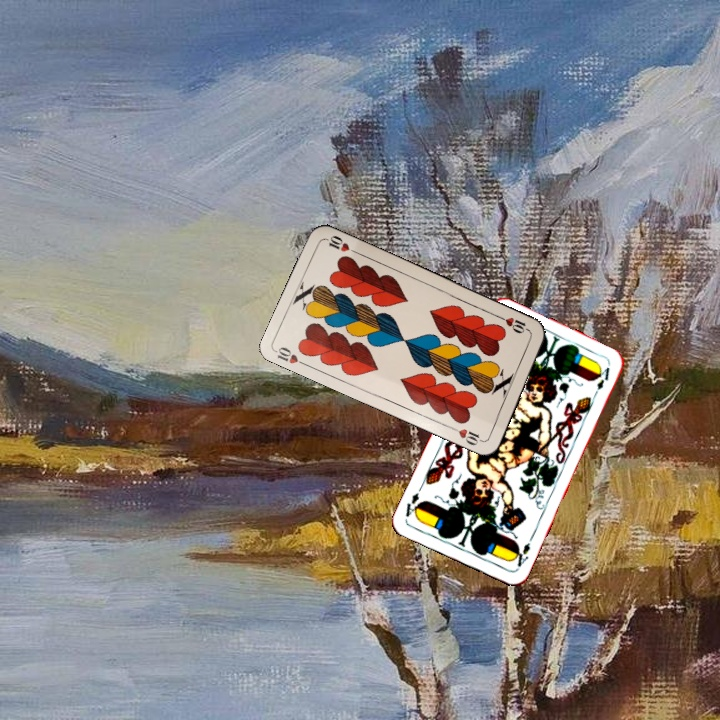EA: (508, 538, 533, 572)
H10: (272, 343, 311, 369), (494, 312, 533, 336)
